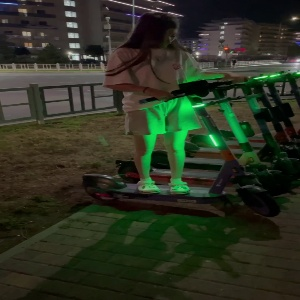human on a scooter: (77, 10, 281, 219)
